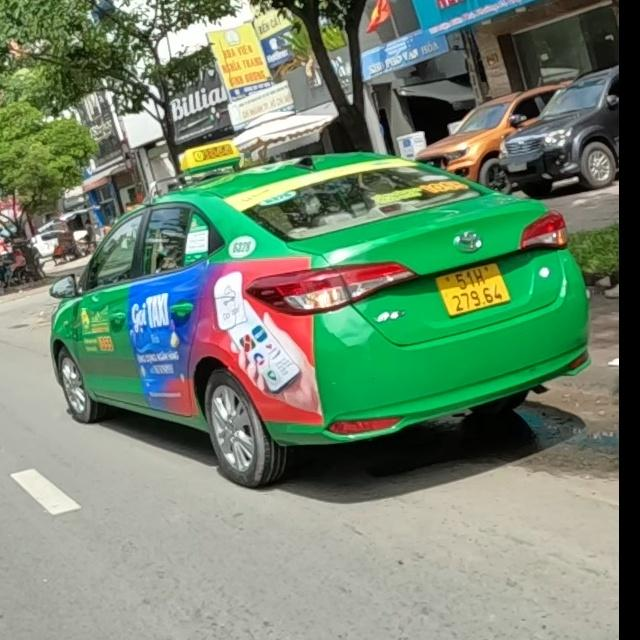license-plate: (436, 263, 510, 318)
